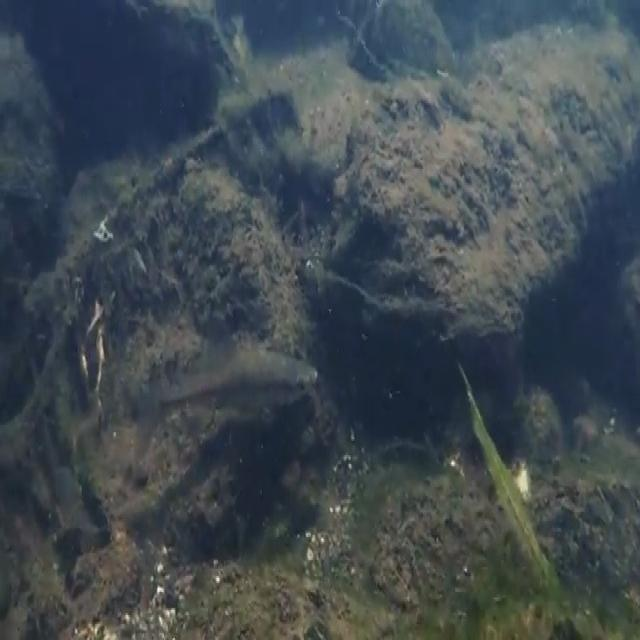Cakil Baligi: (131, 342, 323, 460)
